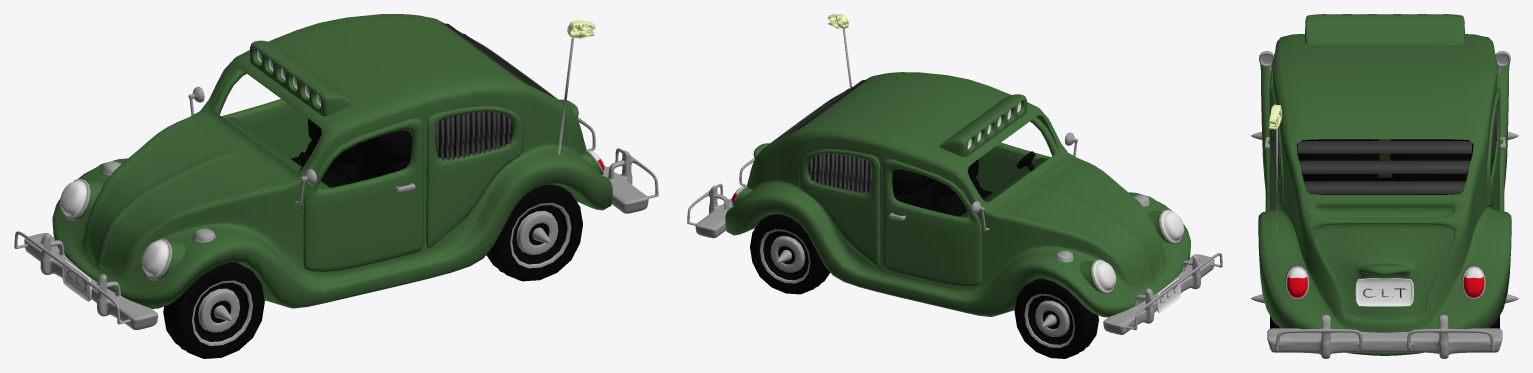
File: fuscaFIMPintado.fbx
The picture shows the model from 3 angles, left to right: view 1: azimuth 30°, elevation 25°; view 2: azimuth 150°, elevation 25°; view 3: azimuth 270°, elevation 25°; orthographic projection. The views are drawn at different scales.
Parts seen in each view (by area): view 1: Cube.011, Cube.001, Cube.005, Cube.003, Cube.014, Cube.029; view 2: Cube.011, Cube.002, Cube.006, Cube.003, Cube.029, Cube.014; view 3: Cube.011, Cube.003, Cube.029, Cube.014, Cube.007.
Boxes of the visible parts, box(x1,y1,x2,y2) form: Cube.011: box(14, 14, 658, 329); Cube.001: box(163, 262, 264, 358); Cube.005: box(486, 184, 582, 281); Cube.003: box(250, 40, 354, 116); Cube.014: box(355, 130, 411, 182); Cube.029: box(291, 118, 359, 187); Cube.011: box(687, 21, 1222, 334); Cube.002: box(1014, 278, 1098, 358); Cube.006: box(750, 214, 830, 294); Cube.003: box(939, 94, 1026, 157); Cube.029: box(892, 169, 939, 212); Cube.014: box(936, 159, 992, 216); Cube.011: box(1258, 34, 1511, 358); Cube.003: box(1305, 14, 1464, 44); Cube.029: box(1390, 139, 1473, 177); Cube.014: box(1296, 139, 1379, 177); Cube.007: box(1269, 104, 1281, 129).
Size of the model in its own units: 1372 by 603 by 562.
8 materials, 1 textured.
